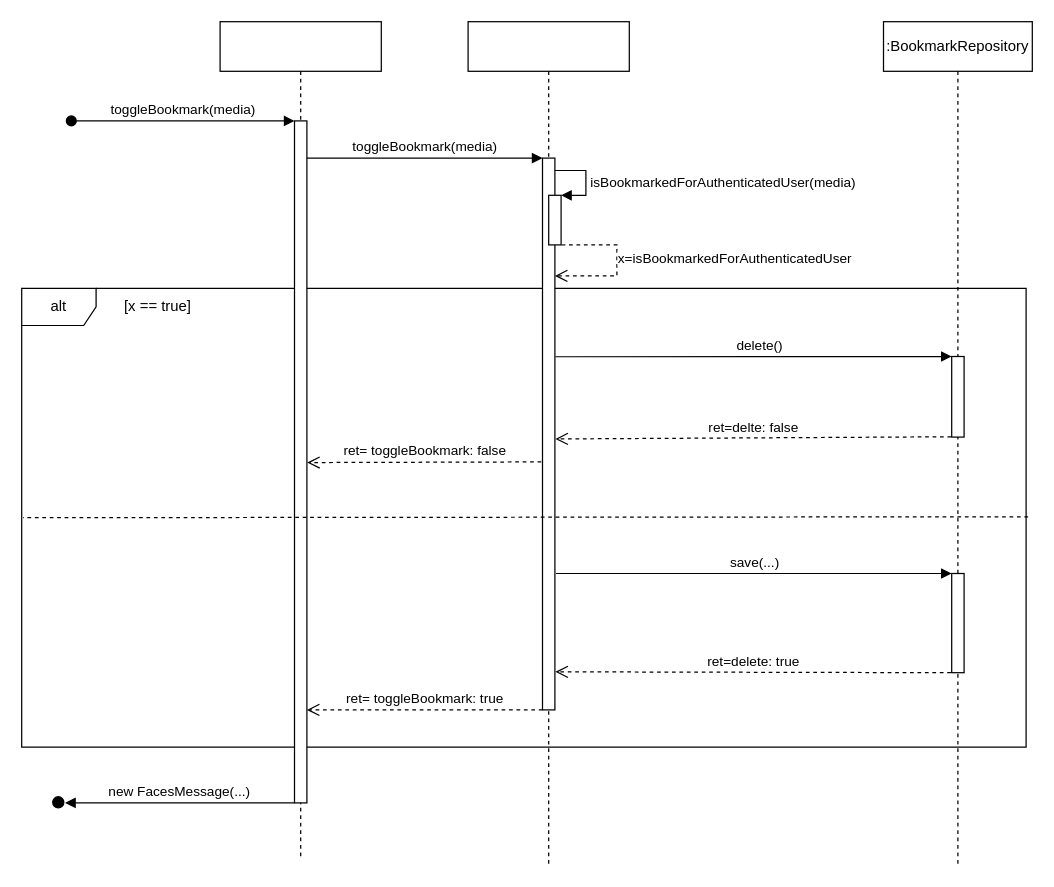
Image size: 1054x887. Some labels were removed from this diagram. The shapes that lost their labels are listed below. From the top down, each one's box as (x1, y1, x2, y2) in pixels, then its label:
(219, 20, 381, 859): :BookmarkController
(467, 20, 629, 865): :BookmarkService
